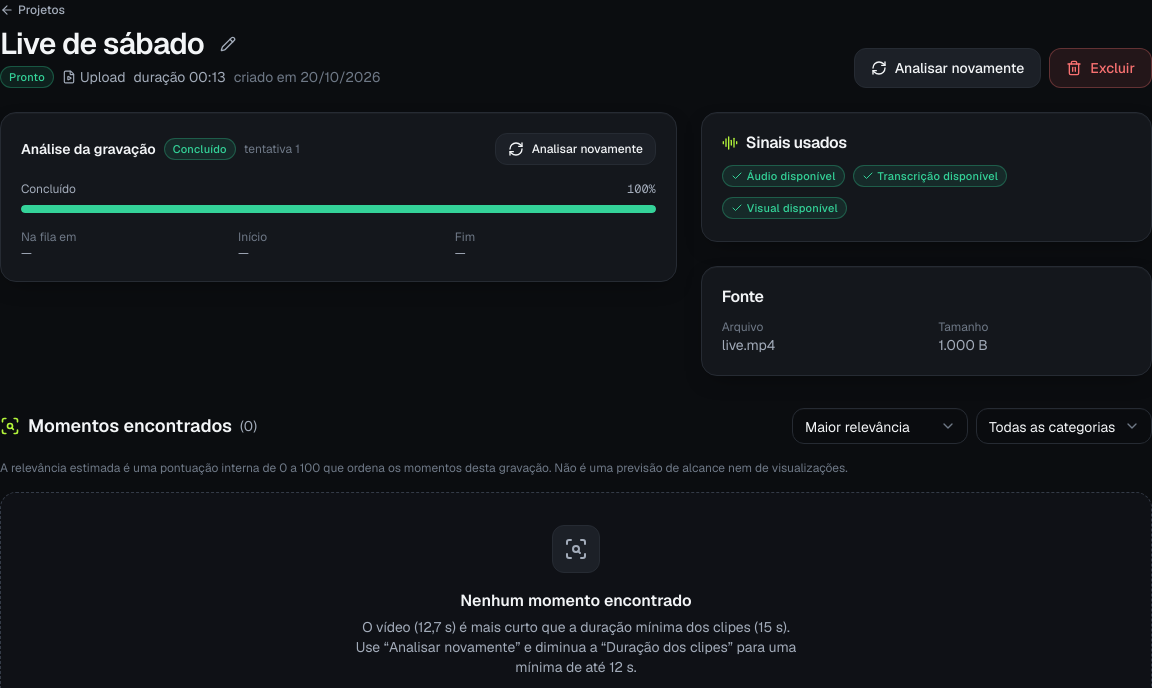
Test: Project results screen › fits the clip lengths of “Analisar novamente” into a recording shorter than the minimum
This screenshot has width=1152, height=688.
Step 1. Click the button "Analisar novamente" in the row of "20/10/2026" → (947, 68), box [854, 48, 1041, 88]
(page scrolled)
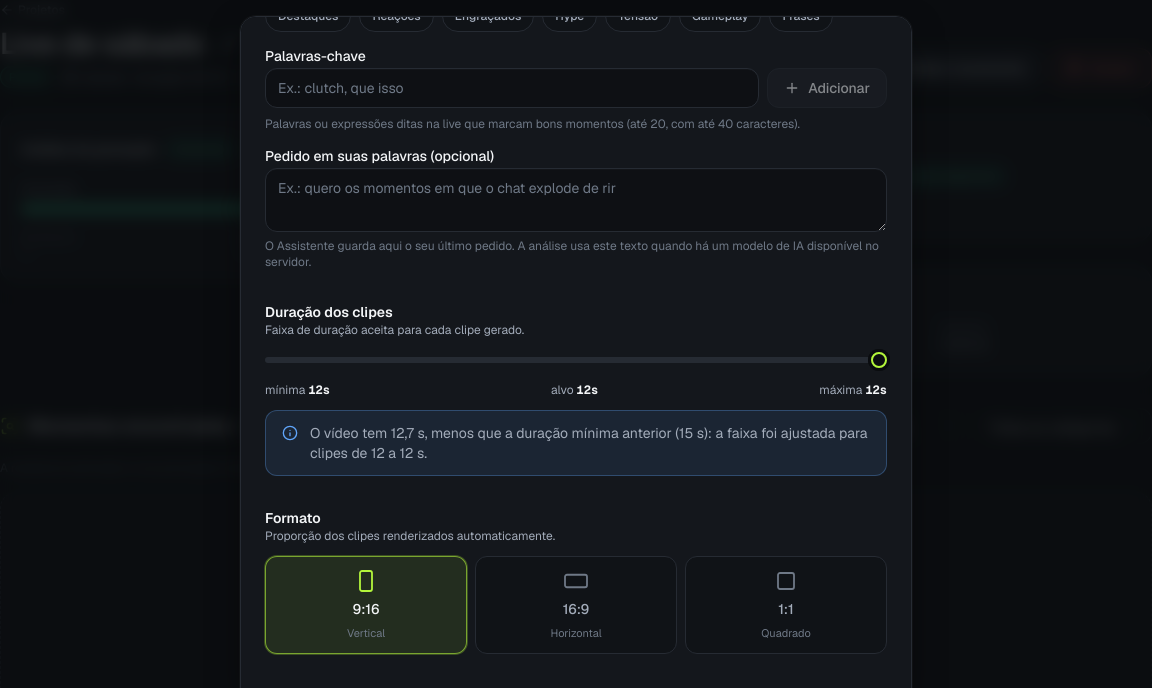
Expected: the text "O vídeo tem 12,7 s, menos que a duração mínima anterior (15 s)" is shown, [310, 422, 870, 462]
